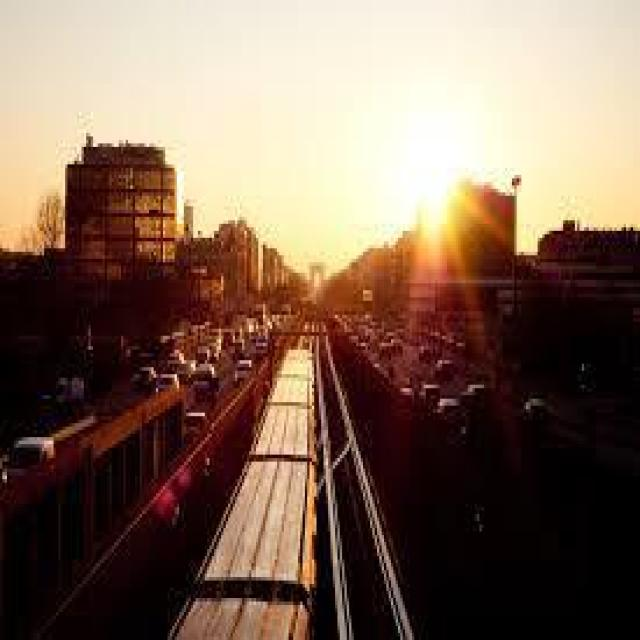other: (347, 71, 507, 261), (153, 140, 213, 243)
